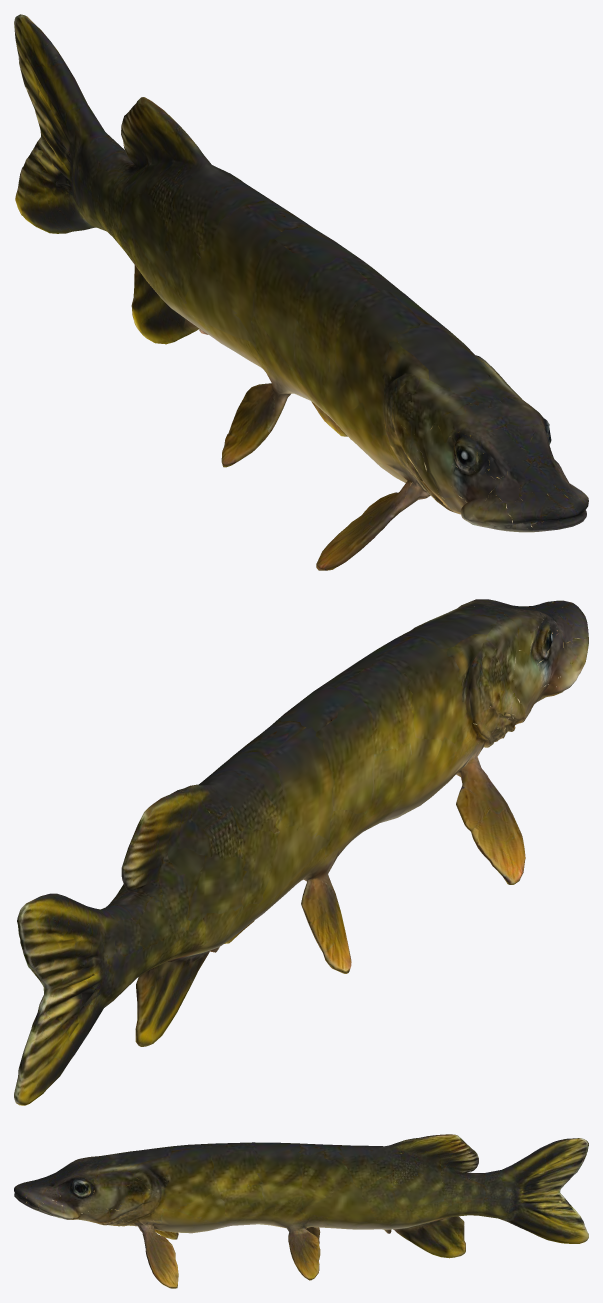
The model's file is pike.glb.
3 renders of one model, top to bottom at view 1: azimuth 30°, elevation 25°; view 2: azimuth 150°, elevation 25°; view 3: azimuth 270°, elevation 25°, orthographic. The views are drawn at different scales.
Visible parts, largest first — view 1: Object_4, Object_5; view 2: Object_4, Object_5; view 3: Object_4, Object_5.
Boxes of the visible parts, x1,y1,x2,y2 form: Object_4: (14, 14, 587, 570); Object_5: (336, 353, 588, 567); Object_4: (14, 599, 588, 1105); Object_5: (428, 600, 588, 839); Object_4: (14, 1134, 588, 1288); Object_5: (25, 1152, 159, 1275).
Size of the model in its own units: 0.3961 by 0.4777 by 1.9.
Materials: 1 (1 with a texture image).
